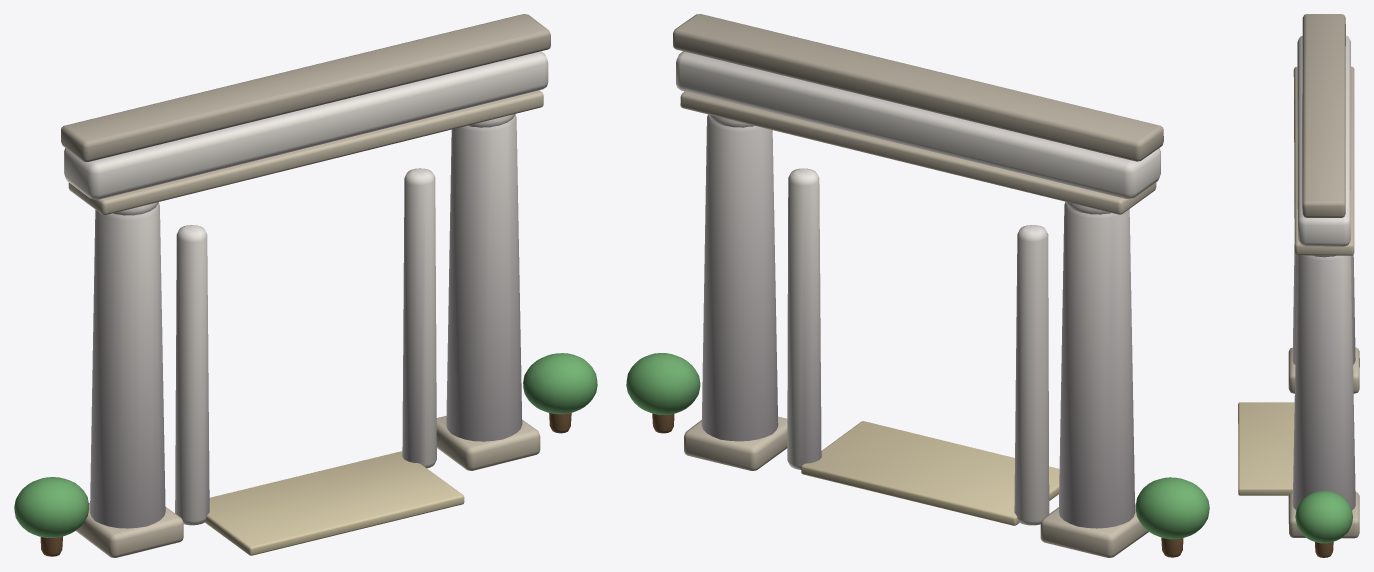
3 views of the same model, side by side, from view 1: azimuth 30°, elevation 25°; view 2: azimuth 150°, elevation 25°; view 3: azimuth 270°, elevation 25° (orthographic). The views are drawn at different scales.
Parts seen in each view (by area): view 1: gate_9537eb24; view 2: gate_9537eb24; view 3: gate_9537eb24.
Boxes of the visible parts, <box> form: gate_9537eb24: <box>14,14,597,557</box>; gate_9537eb24: <box>626,14,1209,557</box>; gate_9537eb24: <box>1238,14,1359,557</box>.
Bounding box in the file's own units: 6.42 × 4.44 × 1.42.
